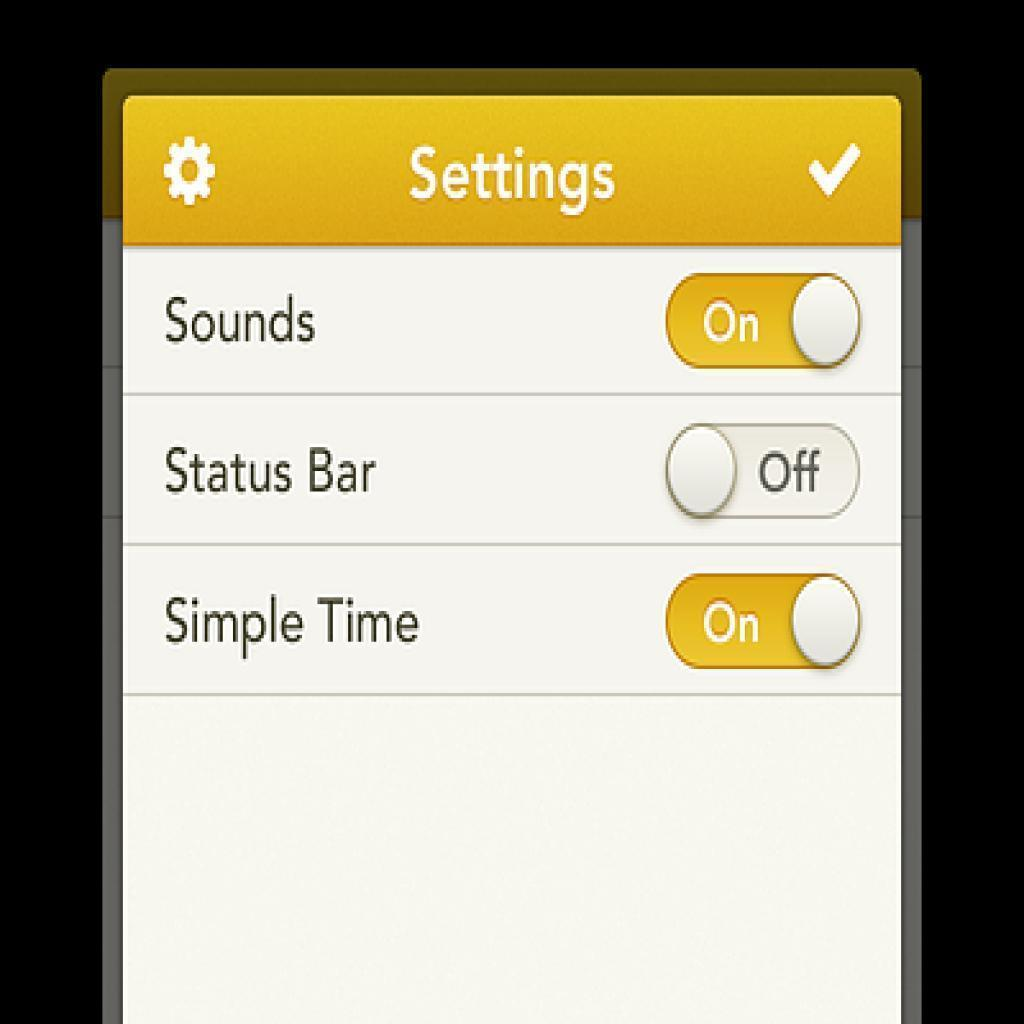icon: (157, 130, 223, 213), (809, 139, 859, 203)
label: (164, 589, 423, 664), (404, 141, 620, 217), (161, 440, 382, 498), (161, 291, 319, 354)
switch: (665, 421, 860, 521), (664, 270, 859, 369), (667, 573, 859, 671)
